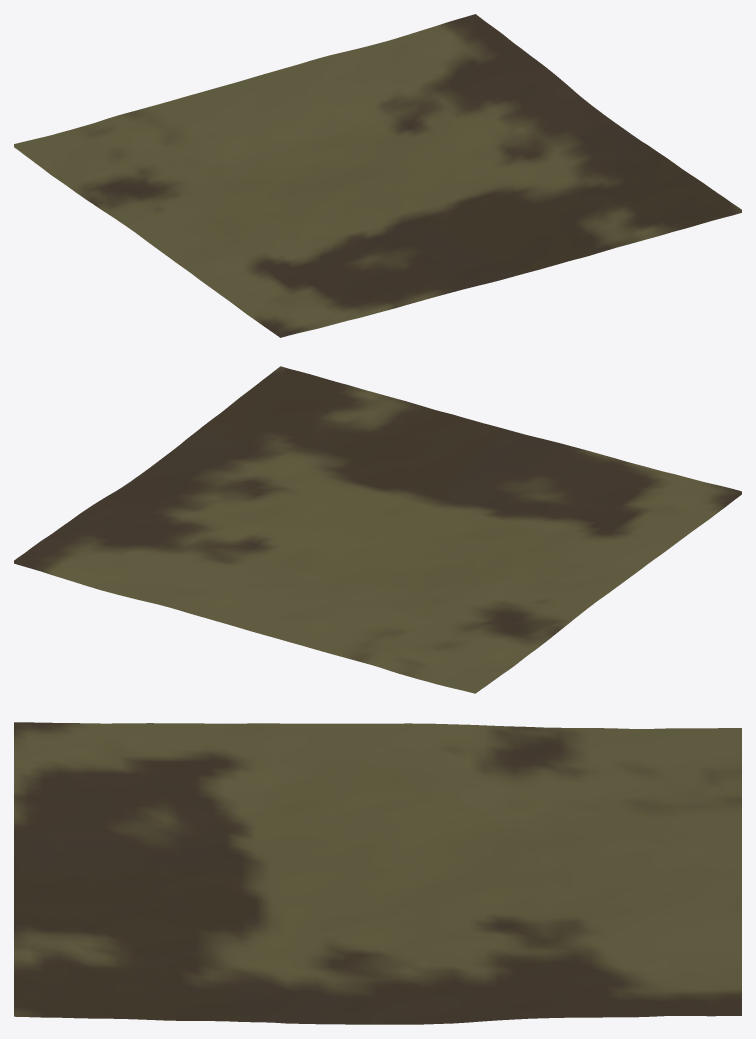
The model's file is land_m_14_04.glb.
3 renders of one model, top to bottom at view 1: azimuth 30°, elevation 25°; view 2: azimuth 150°, elevation 25°; view 3: azimuth 270°, elevation 25°, orthographic. The views are drawn at different scales.
Visible parts, largest first — view 1: land_m_14_04; view 2: land_m_14_04; view 3: land_m_14_04.
Boxes of the visible parts, x1,y1,x2,y2 form: land_m_14_04: [14, 14, 741, 337]; land_m_14_04: [14, 366, 741, 693]; land_m_14_04: [14, 722, 741, 1024].
Size of the model in its own units: 960 by 42.33 by 960.
